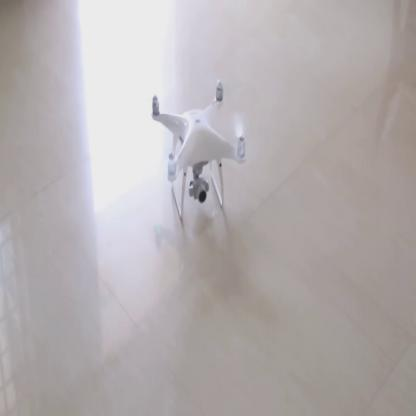drone: (147, 74, 252, 187)
